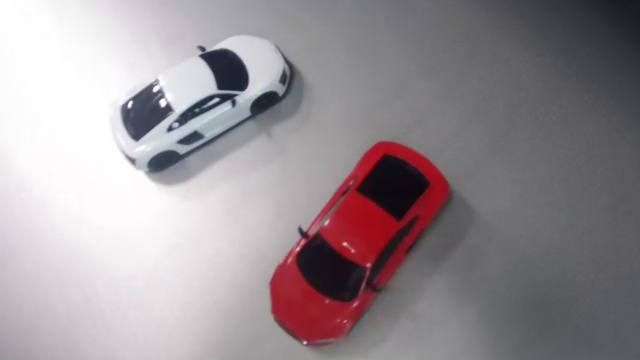car: (270, 139, 452, 346), (110, 35, 293, 171)
